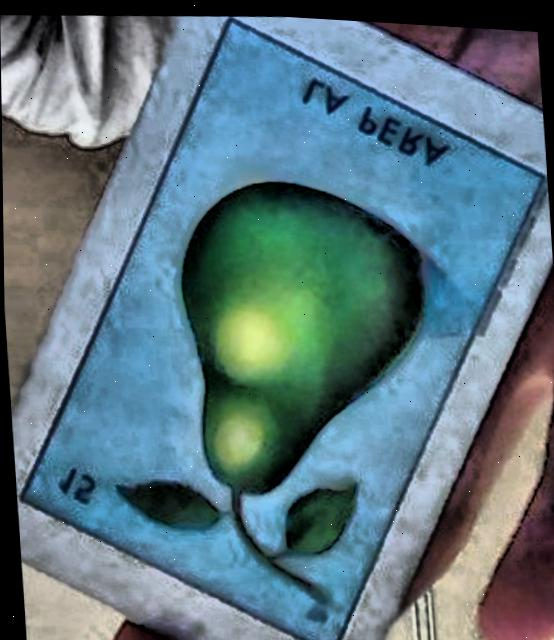La Pera: (20, 15, 545, 640)
